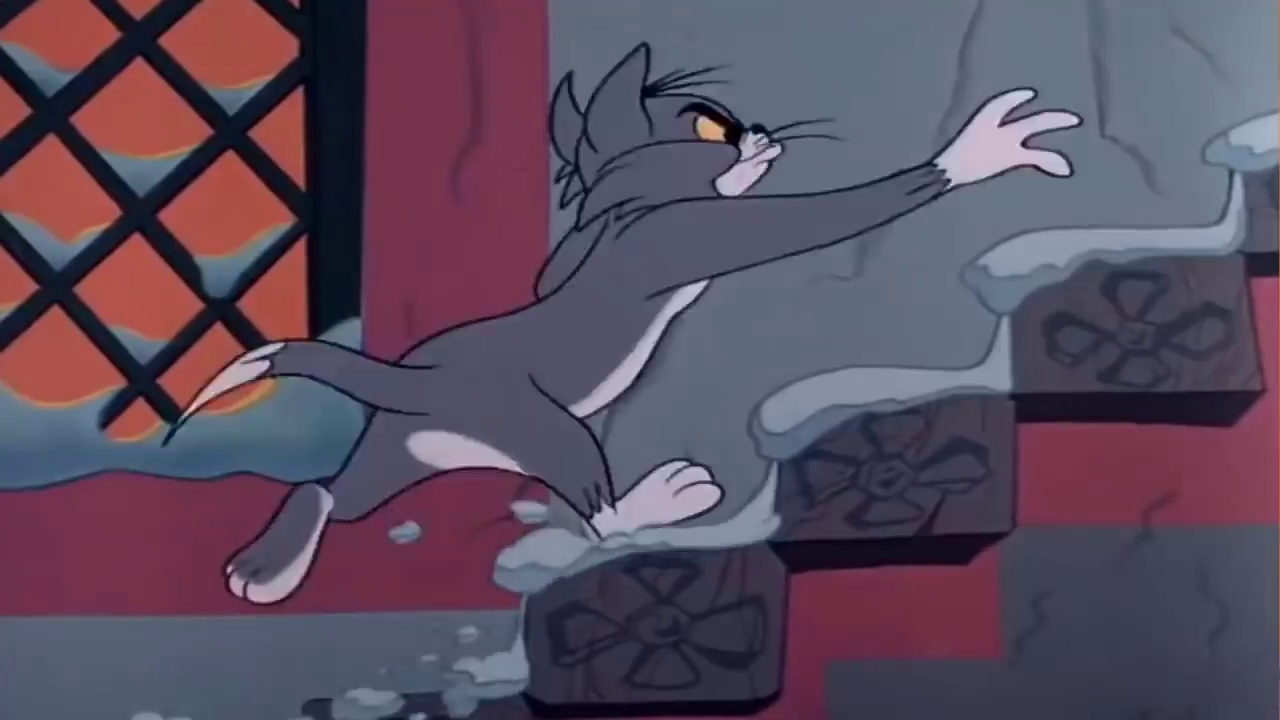face: (672, 92, 795, 199)
